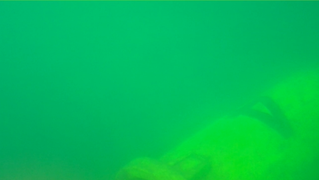4: (227, 94, 297, 140)
pipe: (114, 60, 319, 179)
